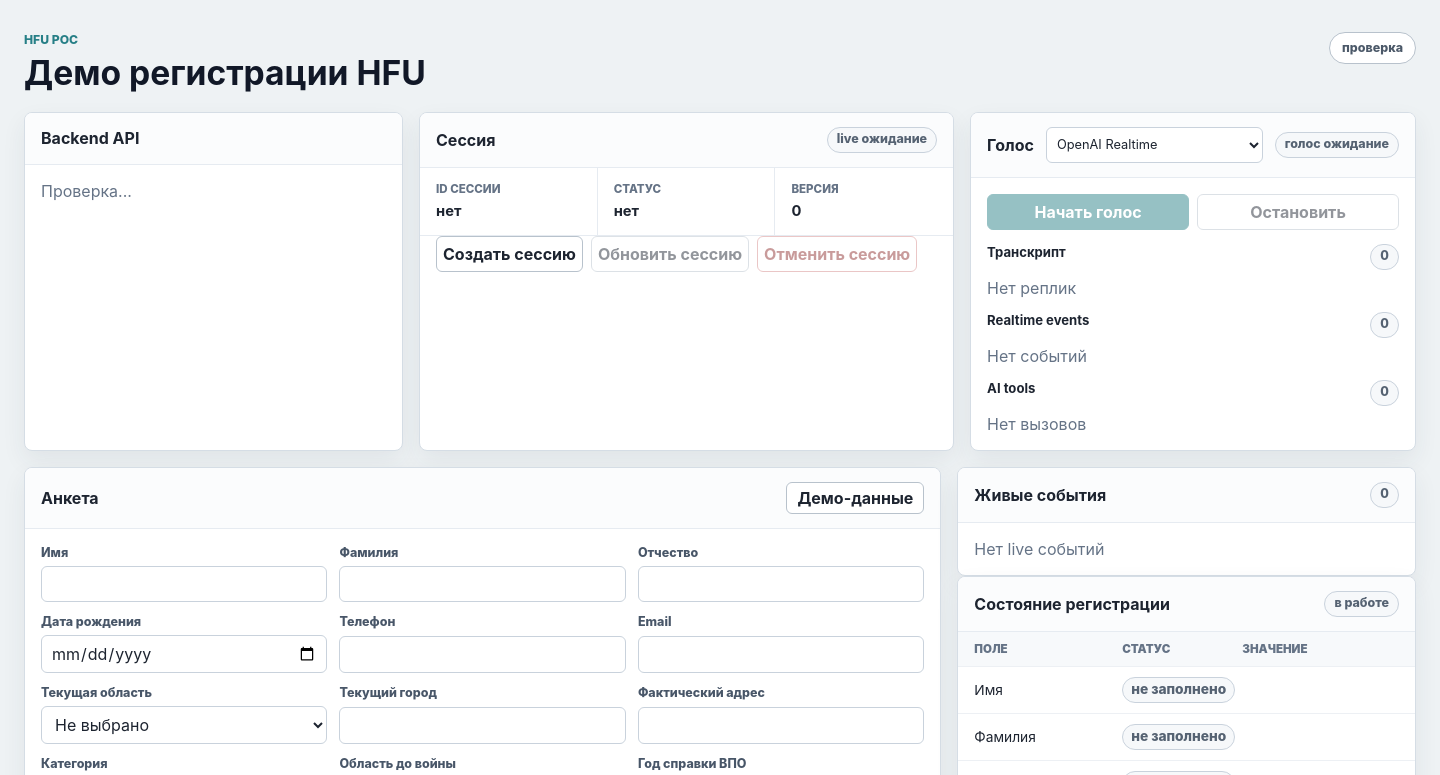
Test case: App › creates a session and stores it for refresh recovery
Click the button "Создать сессию" at (509, 254), box [436,236,583,272]
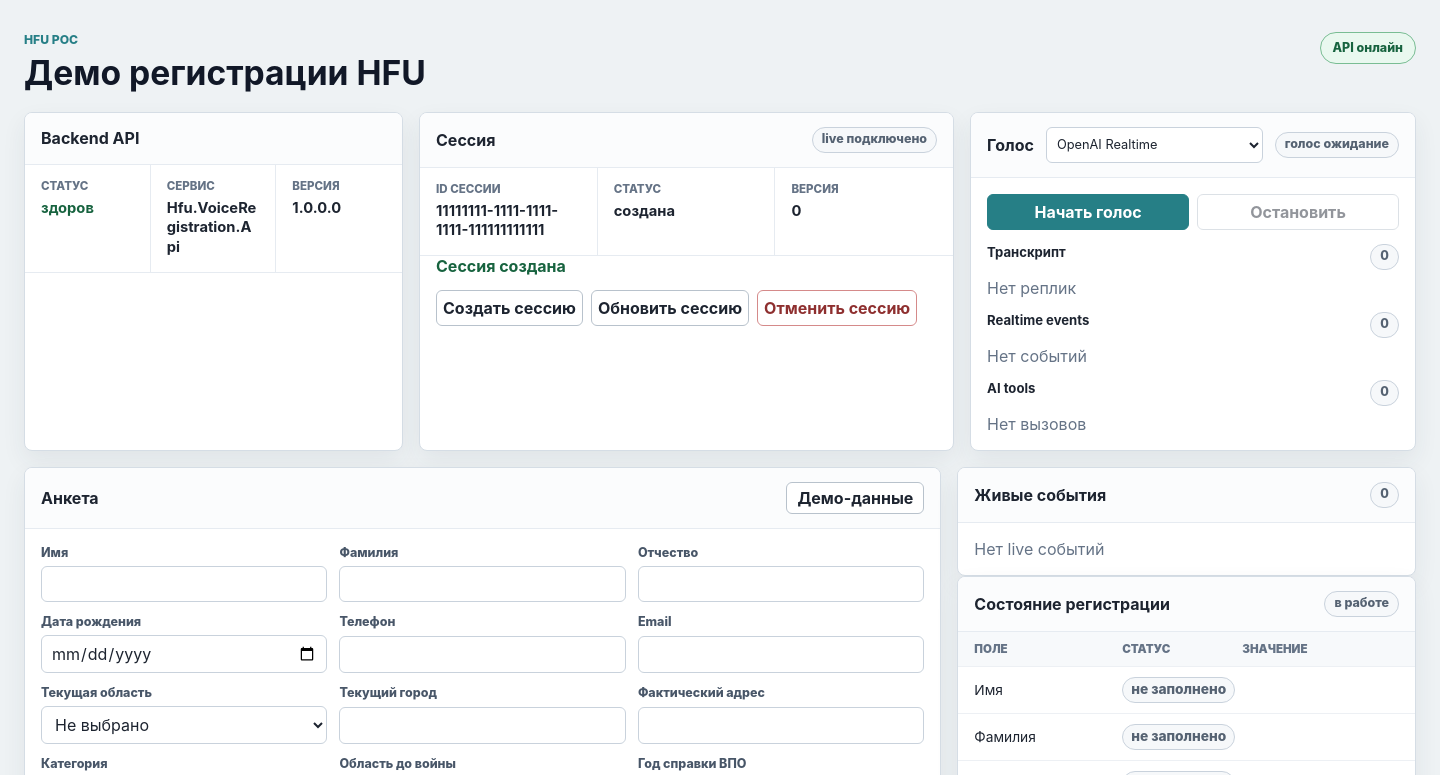
Expected: the text "11111111-1111-1111-1111-111111111111" is shown, [436,202,558,240]
